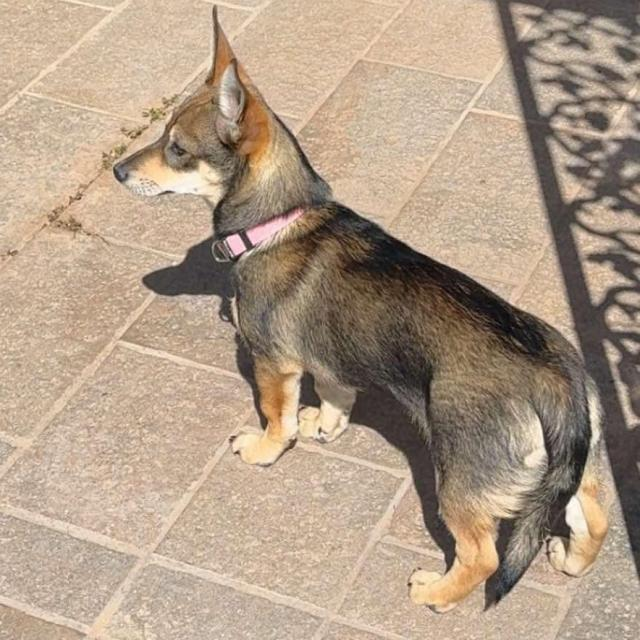corgi_dog: (101, 0, 320, 222)
